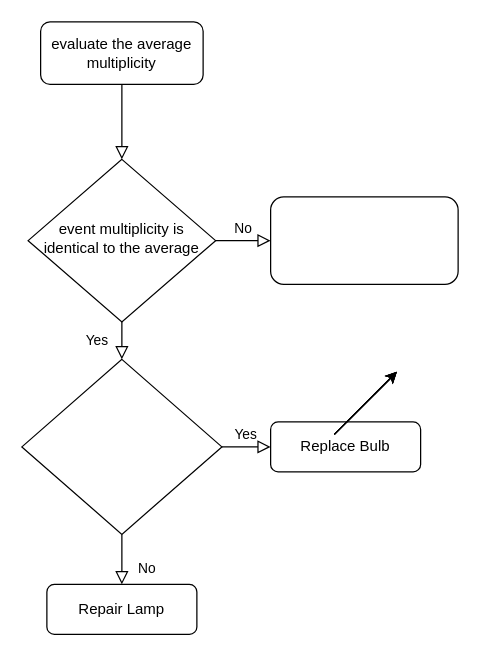
Some shapes in this 480 by 656 pixel diagram are drawn without their labels. The centre of each missing label's shape, as x and y in pixels:
"evaluate two-particle correlation with mixed-event subtraction" belongs at point 121,446.
"randomly cast away excessive hardons or recuperate missing ones" belongs at point 363,240.
